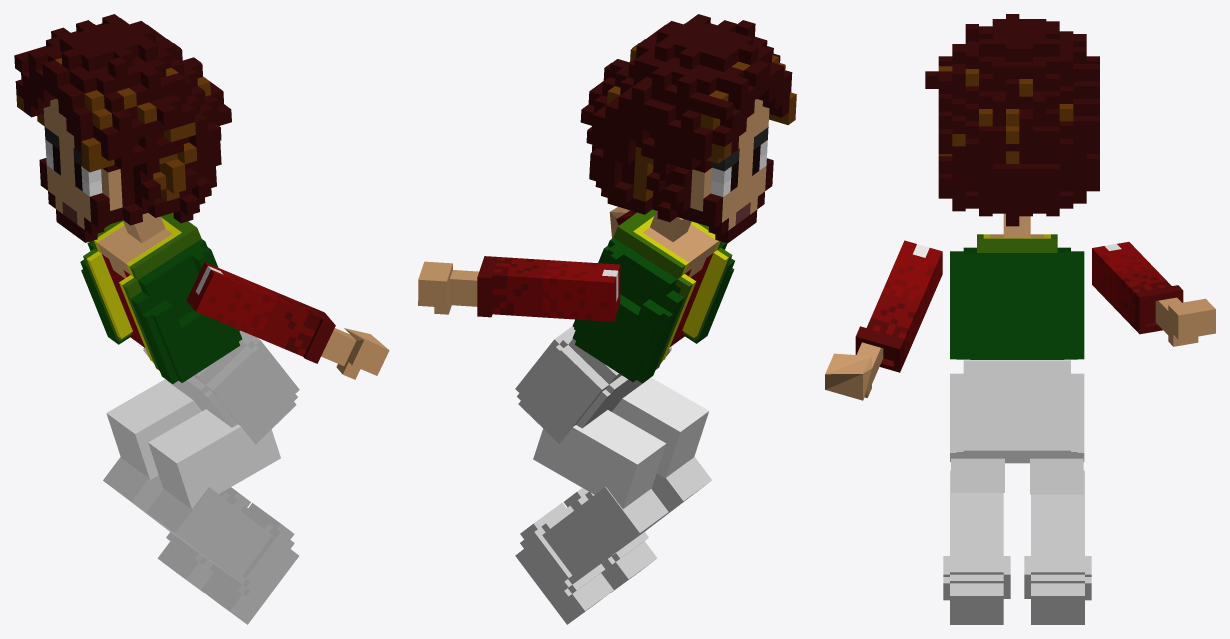
File: Jump1.fbx
3 renders of one model, left to right at view 1: azimuth 30°, elevation 25°; view 2: azimuth 150°, elevation 25°; view 3: azimuth 270°, elevation 25°, orthographic. The views are drawn at different scales.
Visible parts, largest first — view 1: Jump1; view 2: Jump1; view 3: Jump1.
Part boxes in pixels (x1,y1,x2,y2): Jump1: (14, 14, 389, 624); Jump1: (418, 14, 796, 624); Jump1: (825, 14, 1215, 624).
Size of the model in its own units: 82.3 by 182 by 118.
